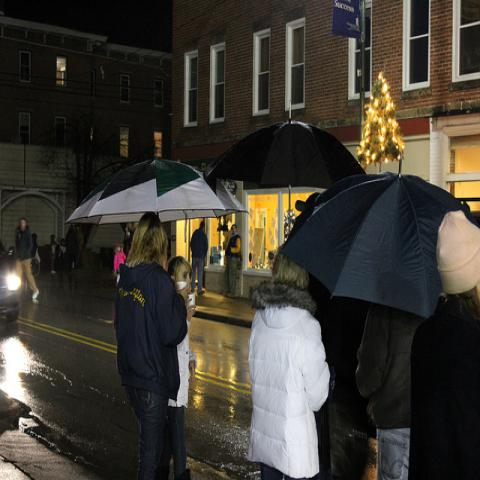car: (0, 241, 24, 322)
